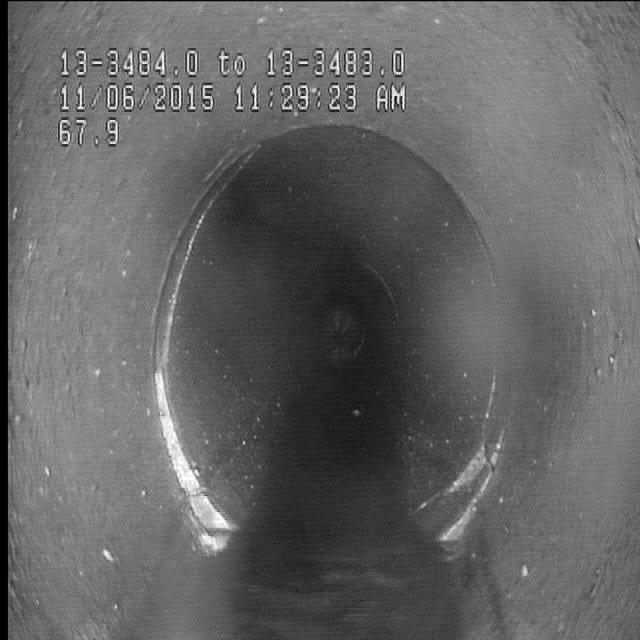Fracture: (423, 383, 512, 533)
